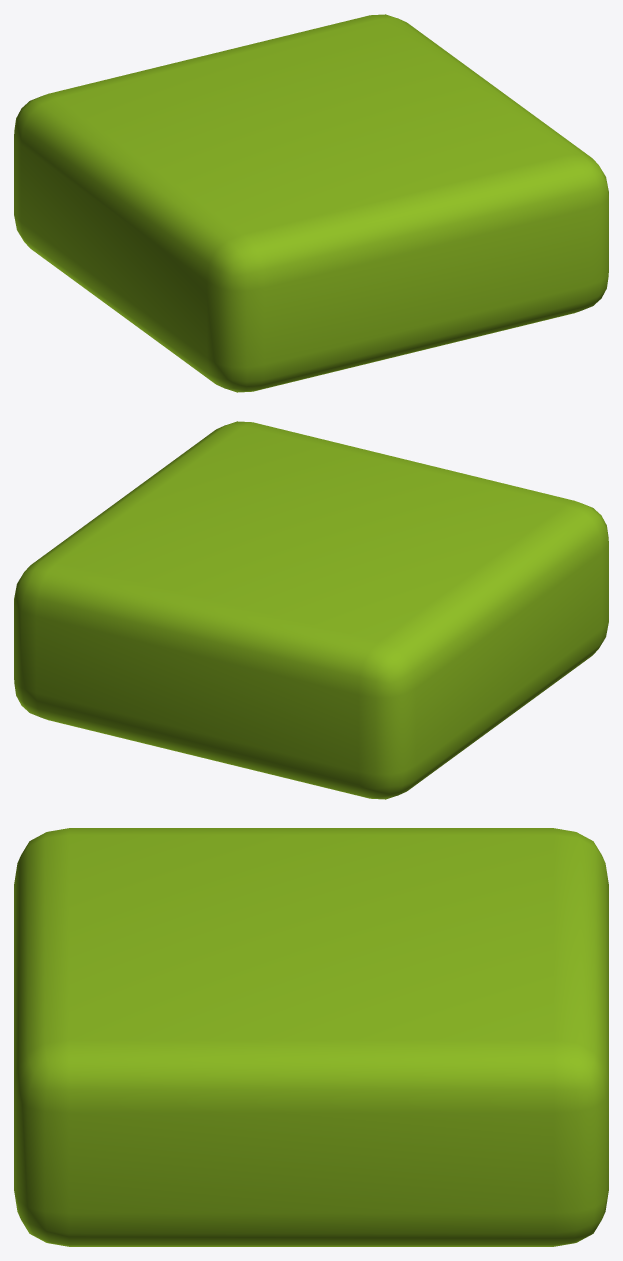
File: ground_type_01.FBX
3 renders of one model, top to bottom at view 1: azimuth 30°, elevation 25°; view 2: azimuth 150°, elevation 25°; view 3: azimuth 270°, elevation 25°, orthographic. The views are drawn at different scales.
Parts seen in each view (by area): view 1: ground_type_01; view 2: ground_type_01; view 3: ground_type_01.
Part boxes in pixels (box(x1,y1,x2,y2)): ground_type_01: box(14, 14, 608, 392); ground_type_01: box(14, 421, 608, 799); ground_type_01: box(14, 828, 608, 1246).
Bounding box in the file's own units: 1080 × 1080 × 400.
1 material, 1 textured.
